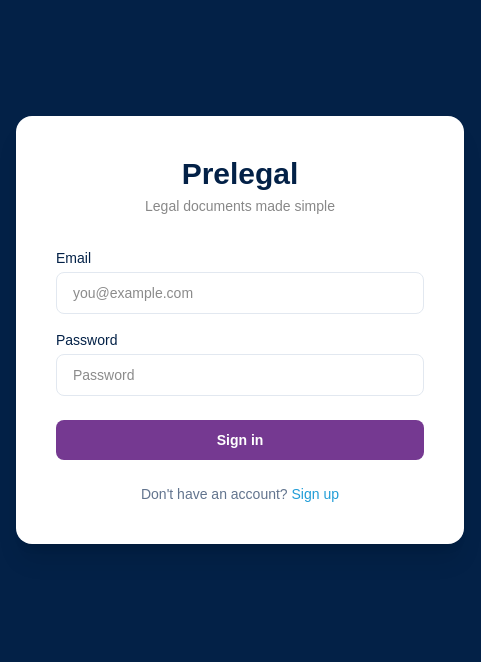
it: LoginPage › shows password mismatch error on signup
Step 1. Click the button "Sign up" → (315, 494), box 292,484 -> 339,504
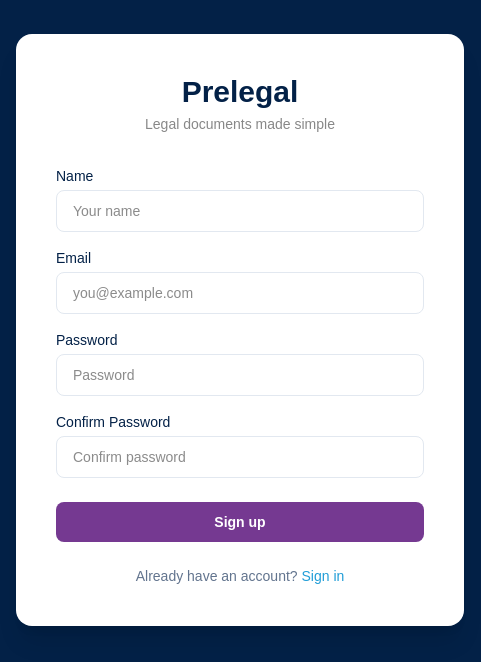
Step 2. Type "Alice" into the field with placeholder "Your name" → (240, 211), box 56,190 -> 424,232
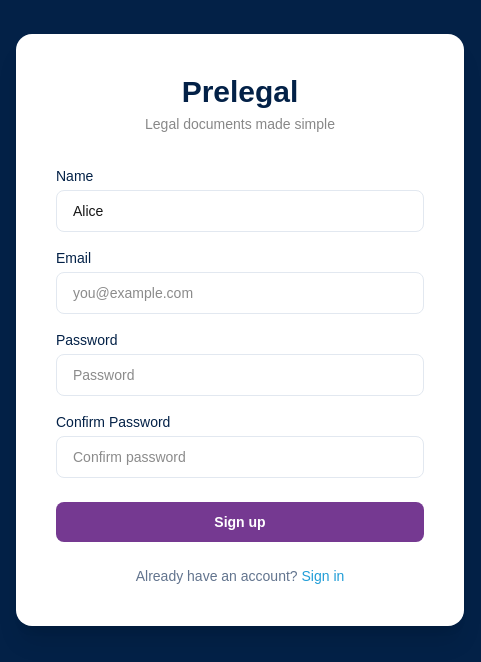
Step 3. Type "a@t.com" into the field with placeholder "you@example.com" → (240, 293), box 56,272 -> 424,314
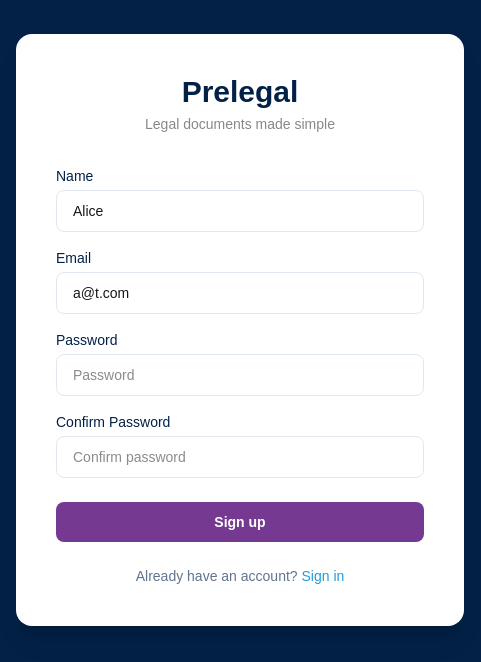
Step 4. Type "secret123" into the password field with placeholder "Password" → (240, 375), box 56,354 -> 424,396
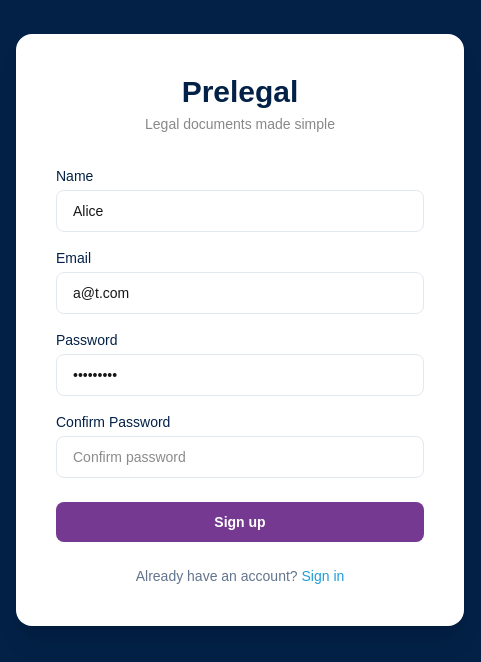
Step 5. Type "different" into the password field with placeholder "Confirm password" → (240, 457), box 56,436 -> 424,478
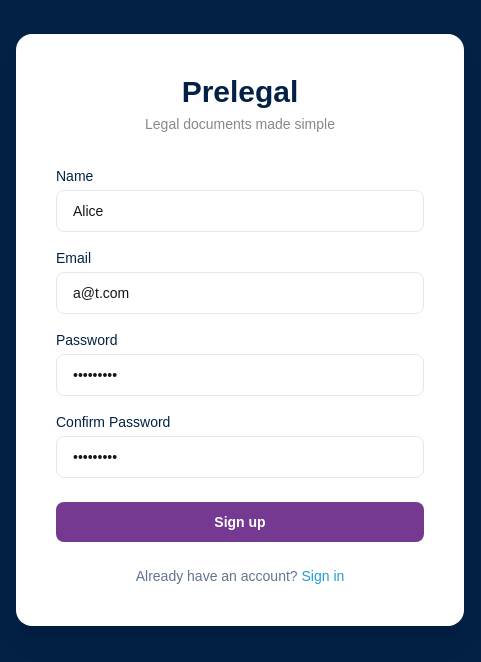
Step 6. Click the button "Sign up" → (240, 522), box 56,502 -> 424,542
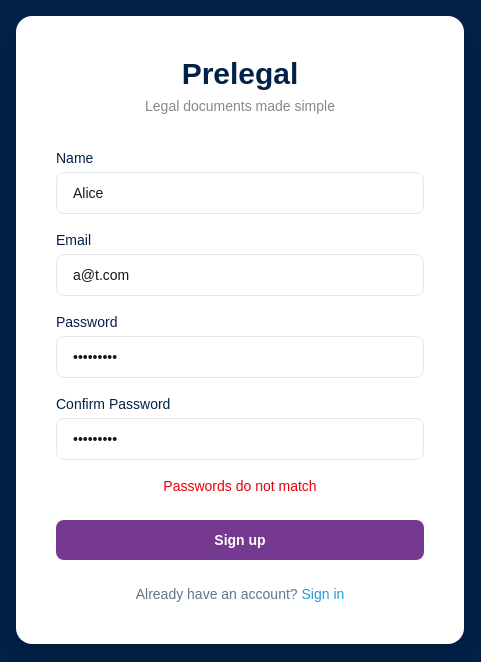
Now the text "Passwords do not match" is shown, box 163,478 -> 317,494
